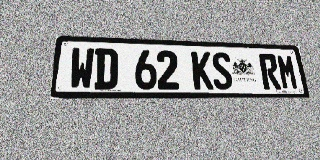2: (157, 50, 179, 90)
6: (135, 49, 157, 90)
D: (94, 48, 118, 89)
K: (191, 51, 214, 90)
M: (276, 54, 299, 90)
R: (258, 54, 282, 90)
S: (211, 52, 234, 90)
W: (69, 47, 95, 89)
